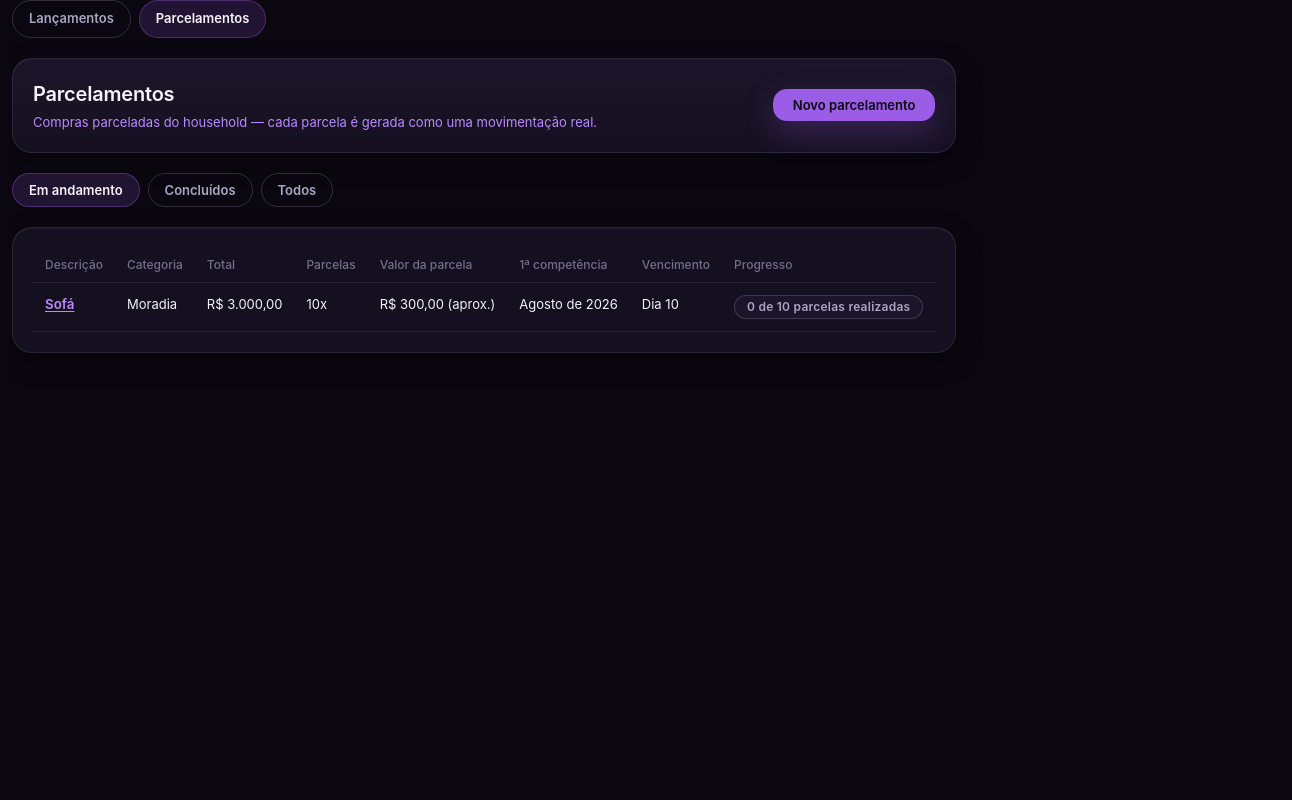
Test: InstallmentPlansPage — listagem › selecionar um plano existente busca e mostra suas parcelas reais via GET detail
The width and height of the screenshot is (1292, 800).
What coordinates should you click on to do the following:
click the button "Sofá"
I would click on:
 (60, 304)
Its box is [45,296,74,312].
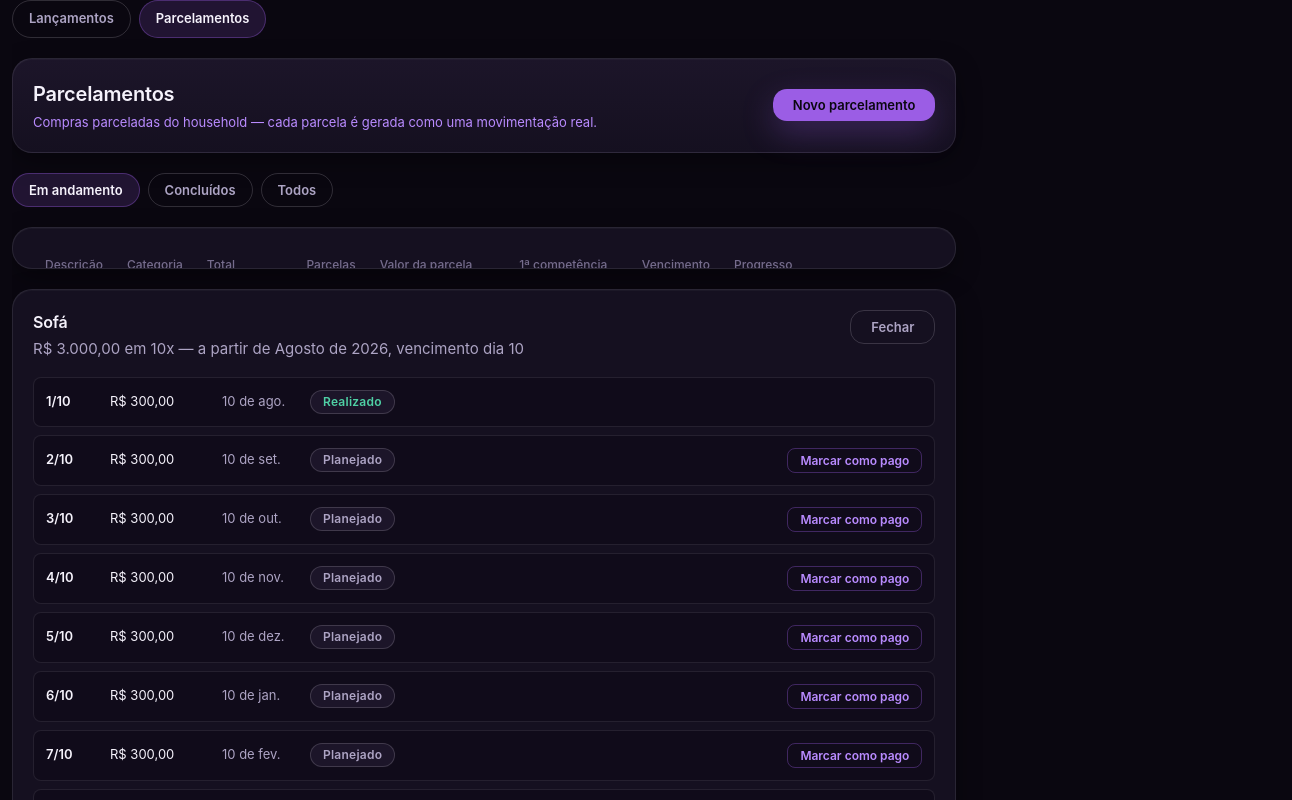
Expected: the text "1/10" is shown, [46,393,70,409]
Expected: the text "R$ 300,00" next to "10 de ago." is shown, [110,393,174,409]
Expected: the text "Realizado" is shown, [310,390,395,414]
